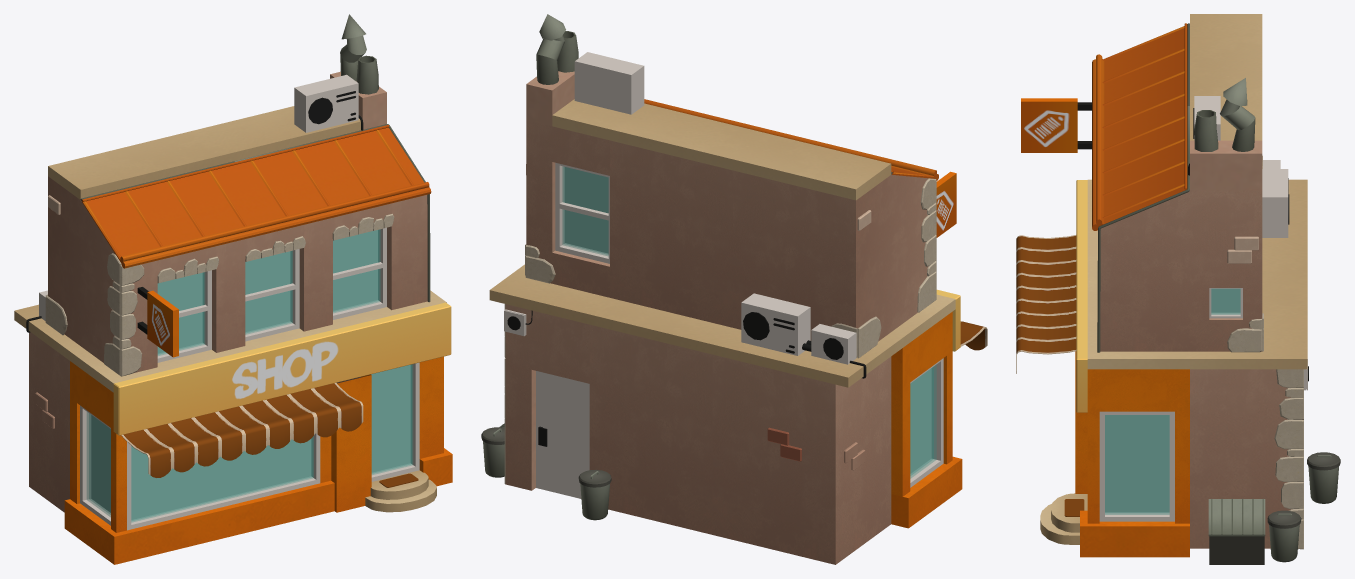
The model's file is Shop_Lvl1.fbx.
3 views of the same model, side by side, from view 1: azimuth 30°, elevation 25°; view 2: azimuth 150°, elevation 25°; view 3: azimuth 270°, elevation 25° (orthographic). The views are drawn at different scales.
Parts seen in each view (by area): view 1: Shop_Lvl1; view 2: Shop_Lvl1; view 3: Shop_Lvl1.
Boxes of the visible parts, x1,y1,x2,y2 form: Shop_Lvl1: (14, 14, 452, 564); Shop_Lvl1: (481, 14, 987, 564); Shop_Lvl1: (1016, 14, 1340, 564).
Bounding box in the file's own units: 657 × 748 × 473.
2 materials, 2 textured.
